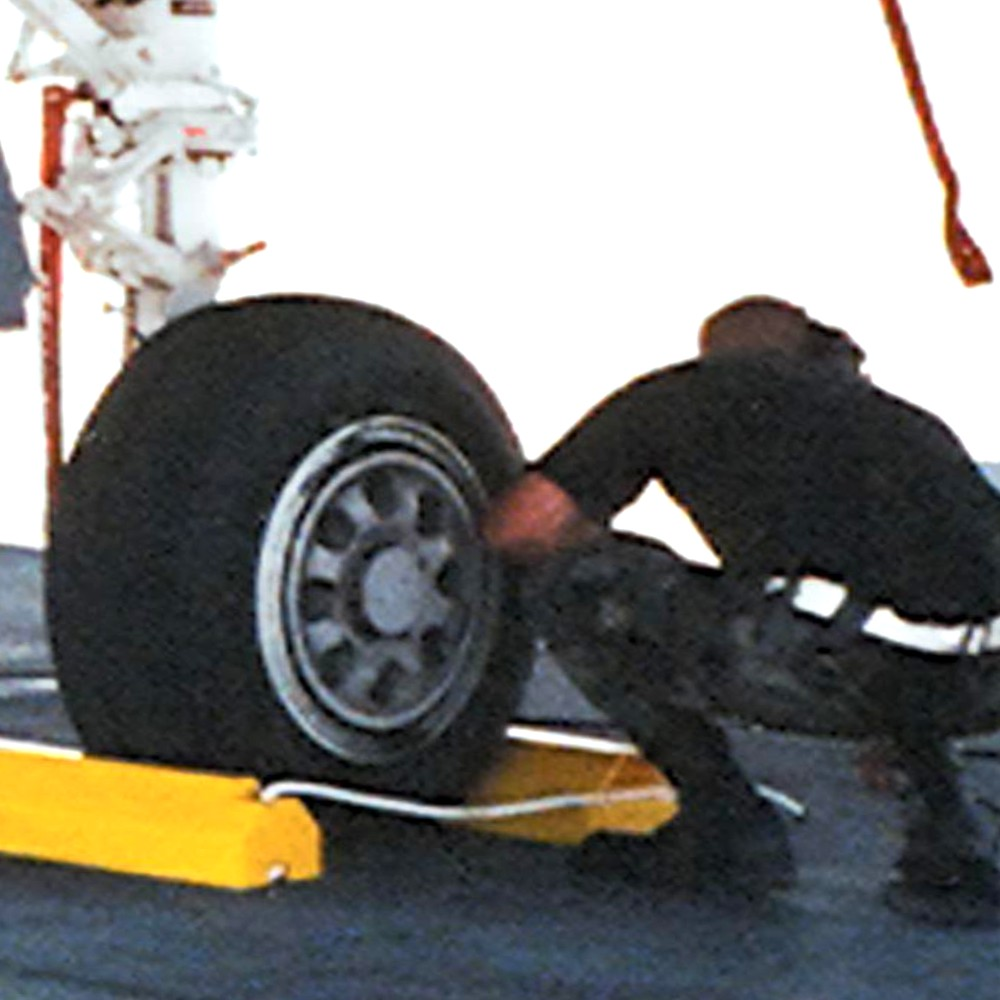chock: (0, 728, 330, 905), (312, 719, 699, 853)
wheel: (42, 288, 551, 815)
